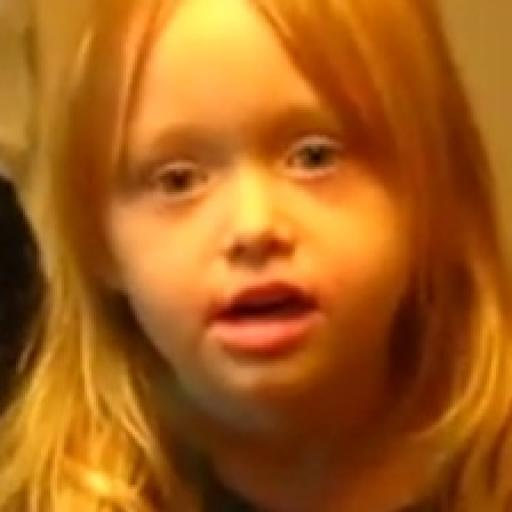Autism: (74, 38, 444, 472)
